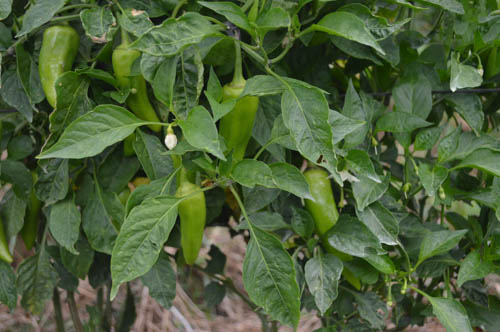ChiliPepper: (305, 170, 351, 259), (110, 50, 158, 132), (217, 85, 258, 179), (39, 25, 78, 113), (173, 185, 207, 270)
